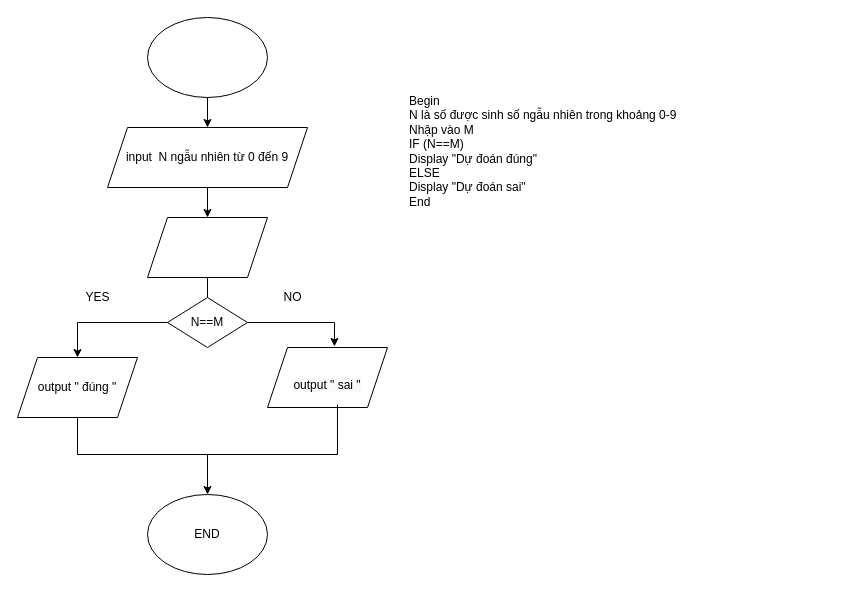
This 855x592 diagram has some shape labels left out. The centre of each missing label's shape, as x and y in pixels:
"begin" goes at point 207,57.
"input N" goes at point 207,247.
